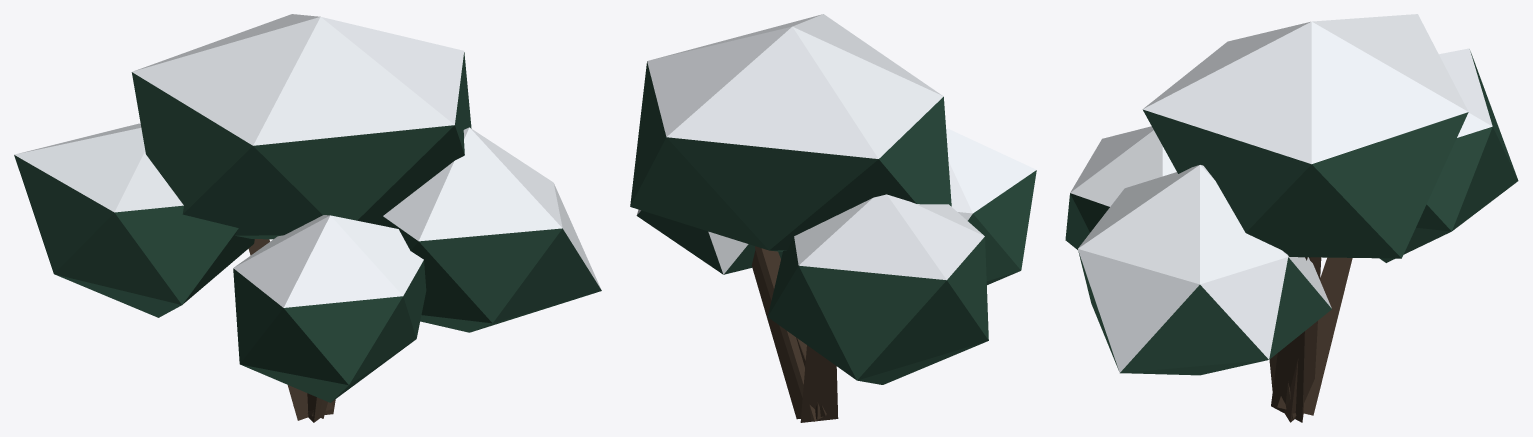
Rendered from snow_bush_small.glb.
3 views of the same model, side by side, from view 1: azimuth 30°, elevation 25°; view 2: azimuth 150°, elevation 25°; view 3: azimuth 270°, elevation 25° (orthographic). The views are drawn at different scales.
Visible parts, largest first — view 1: snow_bush_small; view 2: snow_bush_small; view 3: snow_bush_small.
Part boxes in pixels (<box>): snow_bush_small: <box>14,14,601,422</box>; snow_bush_small: <box>630,14,1036,422</box>; snow_bush_small: <box>1065,14,1518,422</box>.
Bounding box in the file's own units: 0.5319 × 0.4758 × 0.4868.
2 materials, 2 textured.
